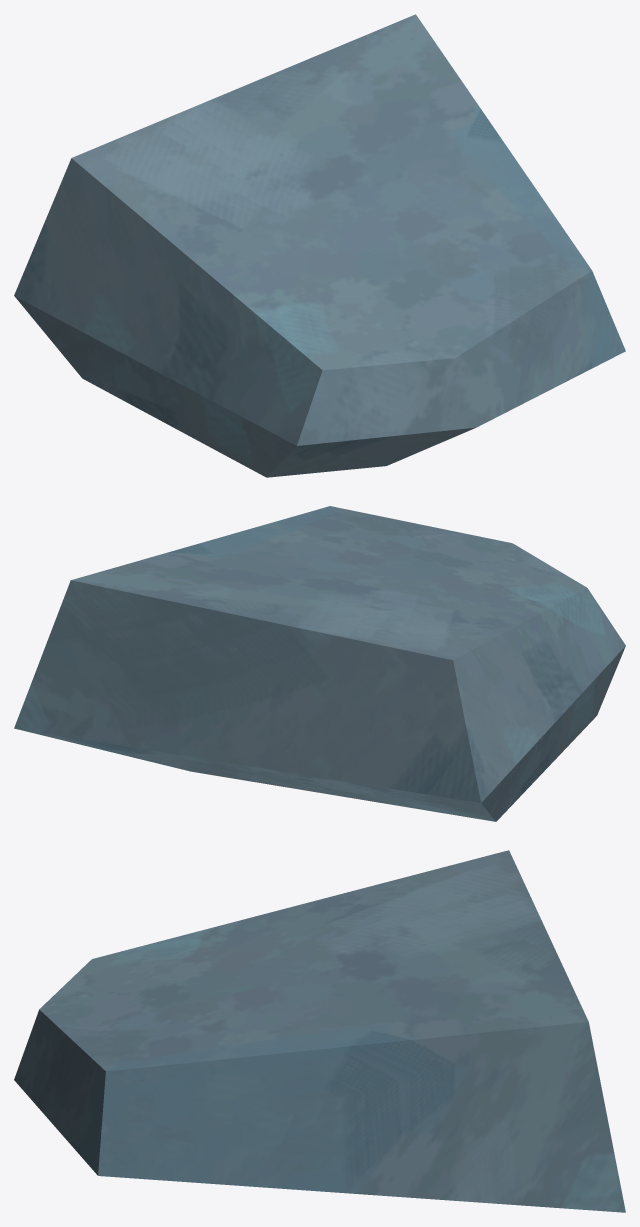
Rendered from stone5.fbx.
3 views of the same model, one above another, from view 1: azimuth 30°, elevation 25°; view 2: azimuth 150°, elevation 25°; view 3: azimuth 270°, elevation 25° (orthographic). The views are drawn at different scales.
Parts seen in each view (by area): view 1: stone5; view 2: stone5; view 3: stone5.
Part boxes in pixels (<box>): stone5: <box>14,14,625,477</box>; stone5: <box>14,506,625,821</box>; stone5: <box>14,850,625,1212</box>.
Bounding box in the file's own units: 373 × 164 × 401.
